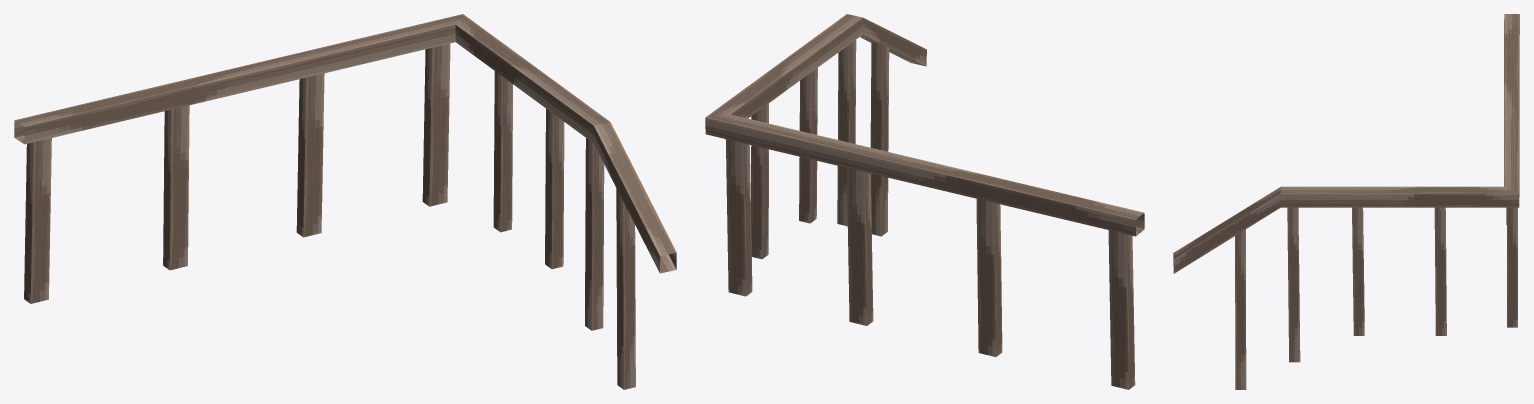
File: SM_GeneralS_Railings_B.fbx
The picture shows the model from 3 angles, left to right: view 1: azimuth 30°, elevation 25°; view 2: azimuth 150°, elevation 25°; view 3: azimuth 270°, elevation 25°; orthographic projection. The views are drawn at different scales.
Visible parts, largest first — view 1: SM_GeneralS_Railings_B_LOD0; view 2: SM_GeneralS_Railings_B_LOD0; view 3: SM_GeneralS_Railings_B_LOD0.
Part boxes in pixels (x1=…): SM_GeneralS_Railings_B_LOD0: x1=14, y1=14, x2=676, y2=389; SM_GeneralS_Railings_B_LOD0: x1=705, y1=14, x2=1144, y2=389; SM_GeneralS_Railings_B_LOD0: x1=1173, y1=14, x2=1519, y2=389.
Bounding box in the file's own units: 289 × 239 × 152.
